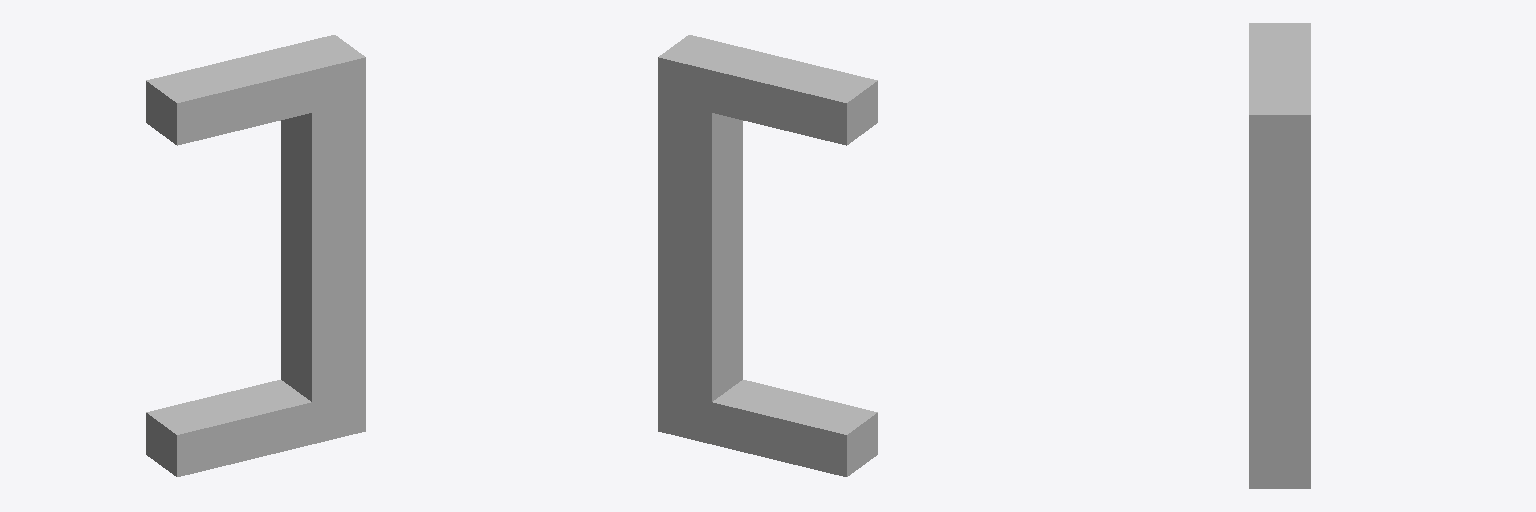
Rendered from handle_shell.obj.
3 views of the same model, side by side, from view 1: azimuth 30°, elevation 25°; view 2: azimuth 150°, elevation 25°; view 3: azimuth 270°, elevation 25° (orthographic).
Parts seen in each view (by area): view 1: Body_01; view 2: Body_01; view 3: Body_01.
Part boxes in pixels (x1,y1,x2,y2): Body_01: (146, 35, 365, 476); Body_01: (658, 35, 877, 476); Body_01: (1249, 23, 1310, 488).
Bounding box in the file's own units: 0.14 × 0.265 × 0.04.